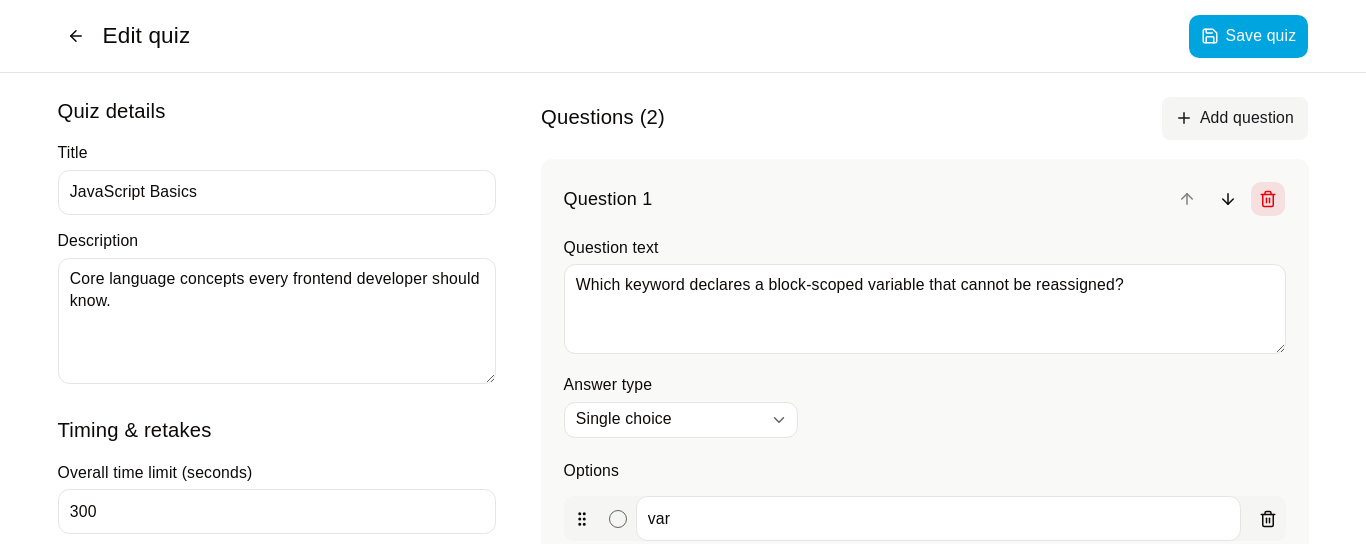
Test: shared quiz form › retains input and shows a failed save without navigating away
This screenshot has width=1366, height=544.
Replace the text in the field labelled "Title" with "Still editing" at x=277, y=192, box [58, 170, 496, 215]
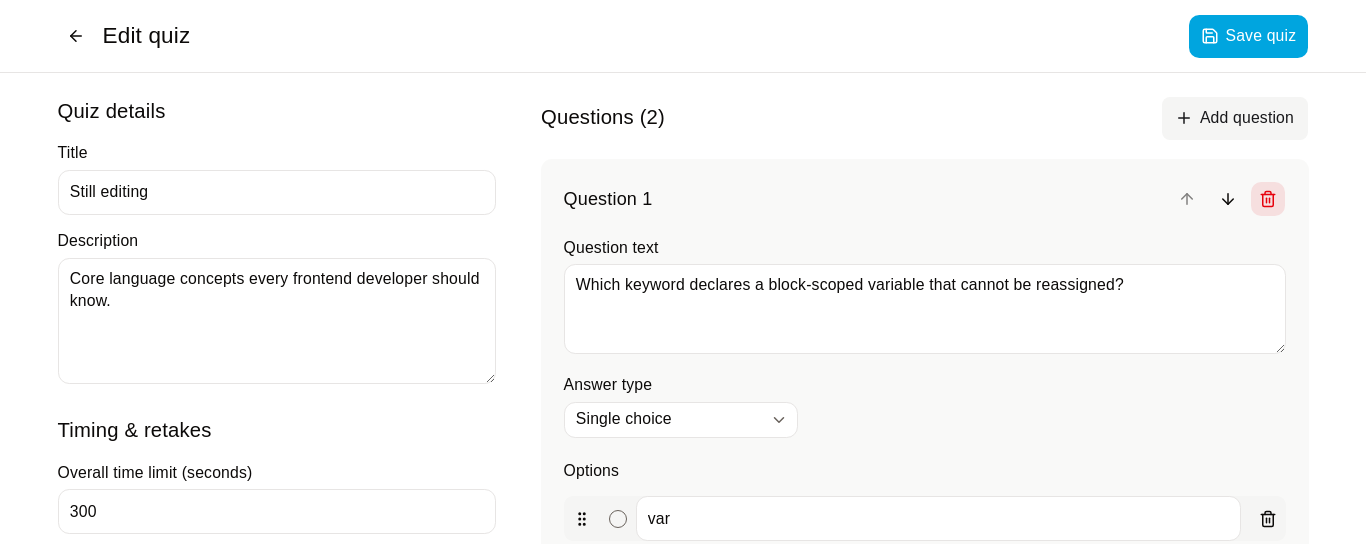
Click the button "Save quiz" at x=1248, y=36, box [1188, 14, 1308, 58]
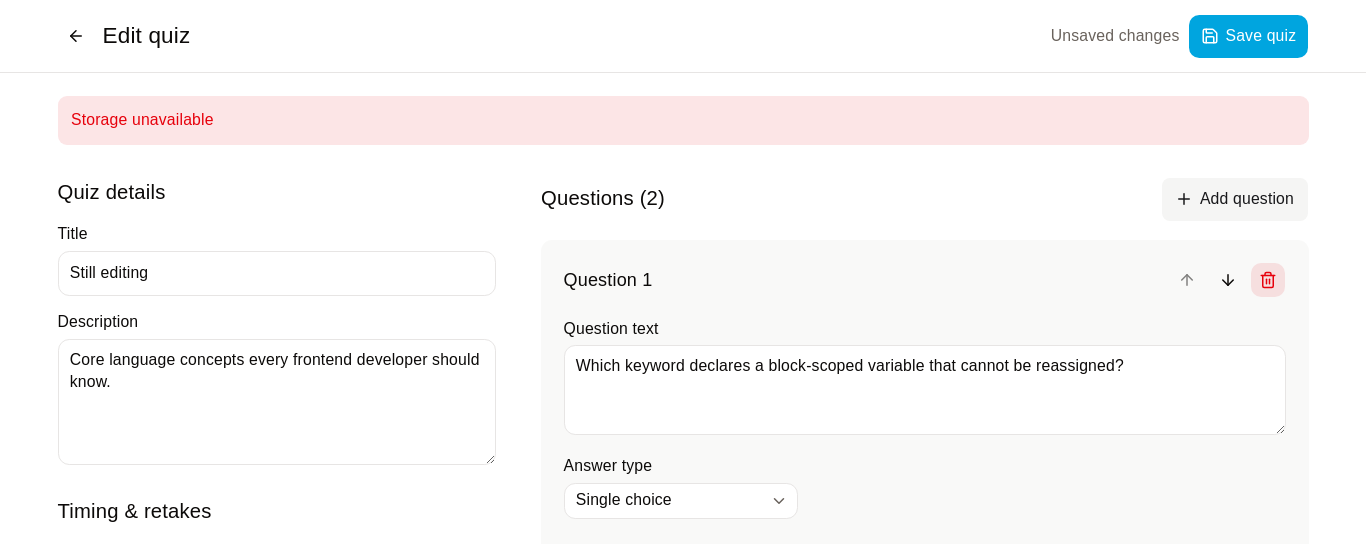
expect the text "Storage unavailable" is shown: met, box [58, 96, 1308, 145]
